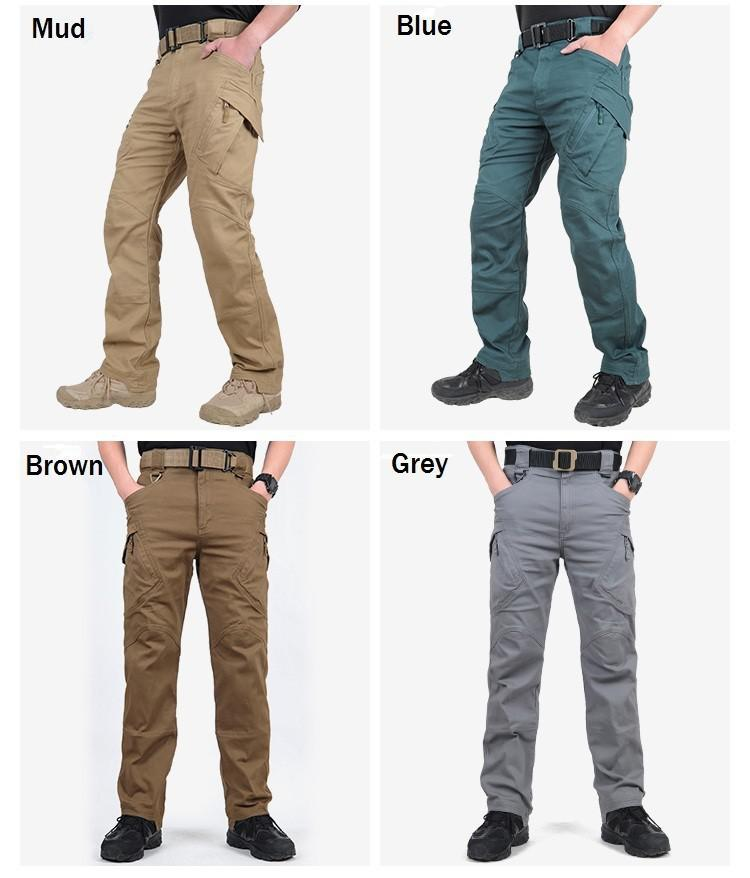pants: (443, 32, 654, 390), (94, 43, 284, 396), (480, 449, 641, 822), (116, 472, 275, 829)
